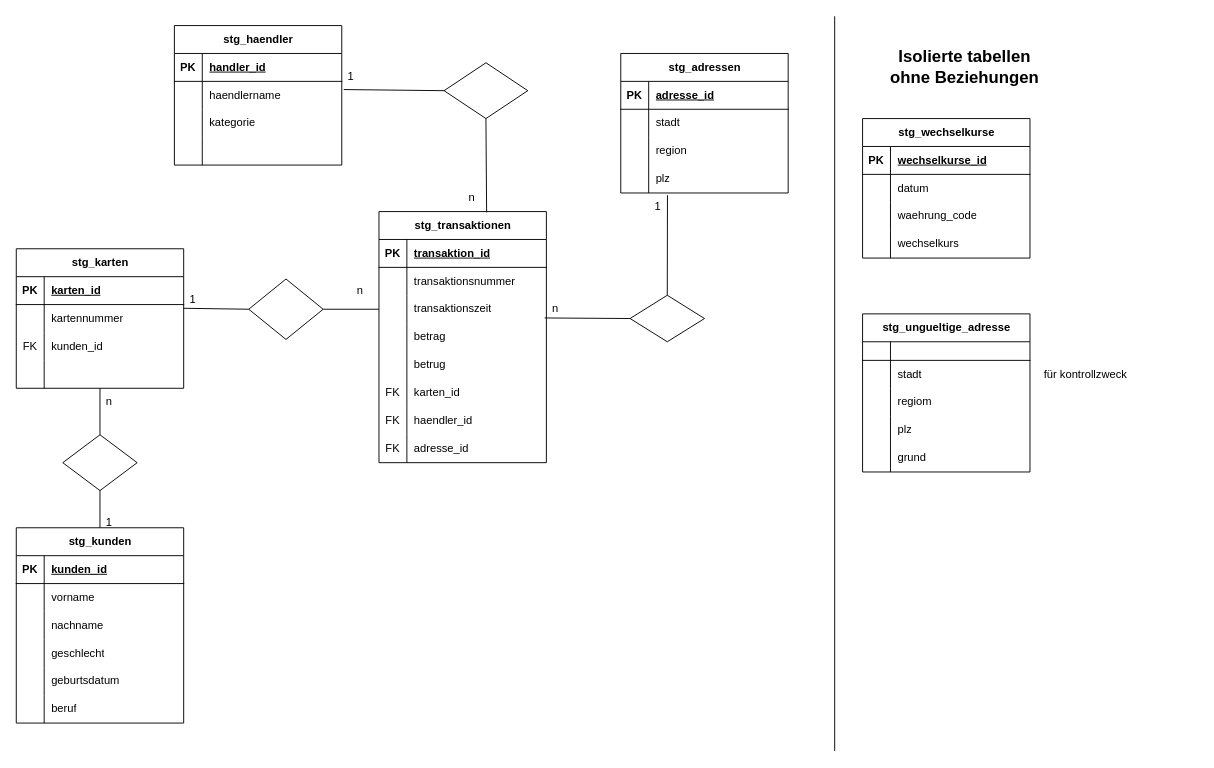
This 1214x768 diagram has some shape labels left out. Each missing label, with the centre of its shape:
führt aus: point 485,90
hat: point 99,462
hat ein adresse: point 666,318
verursacht: point 285,308
